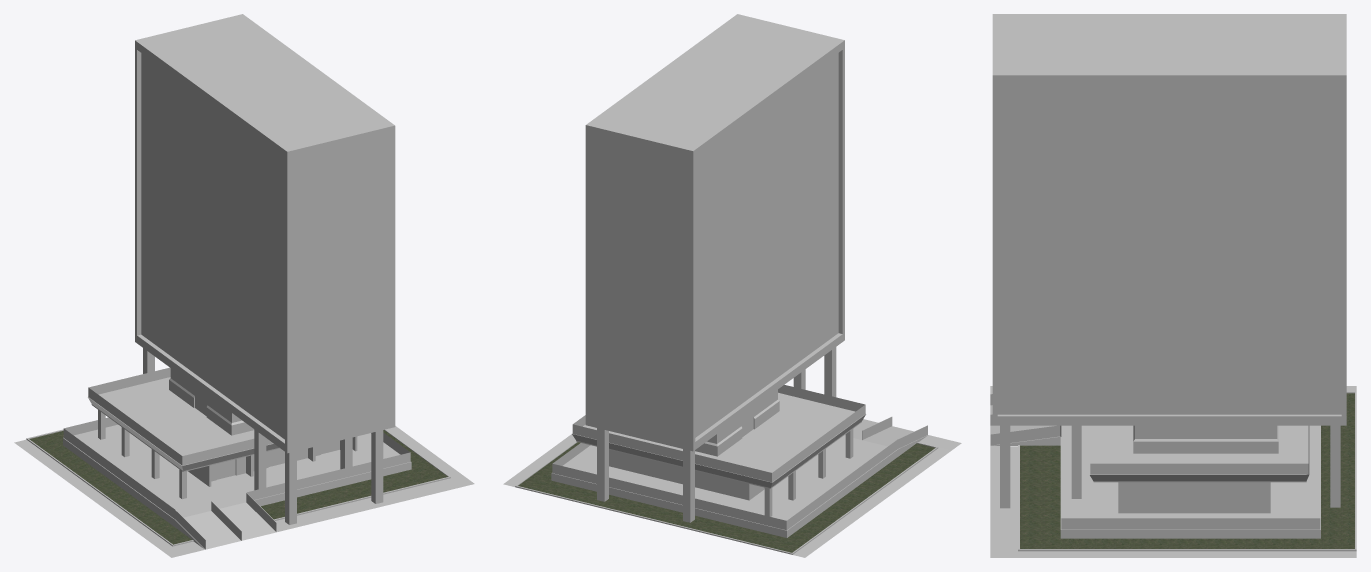
3 views of the same model, side by side, from view 1: azimuth 30°, elevation 25°; view 2: azimuth 150°, elevation 25°; view 3: azimuth 270°, elevation 25° (orthographic). The views are drawn at different scales.
Visible parts, largest first — view 1: BC-P05; view 2: BC-P05; view 3: BC-P05.
Part boxes in pixels (left/top/right/bottom): BC-P05: left=14, top=14, right=474, bottom=557; BC-P05: left=503, top=14, right=961, bottom=557; BC-P05: left=990, top=14, right=1356, bottom=557.
Size of what is drawn, in the model's own units: 4000 by 4750 by 3601.
